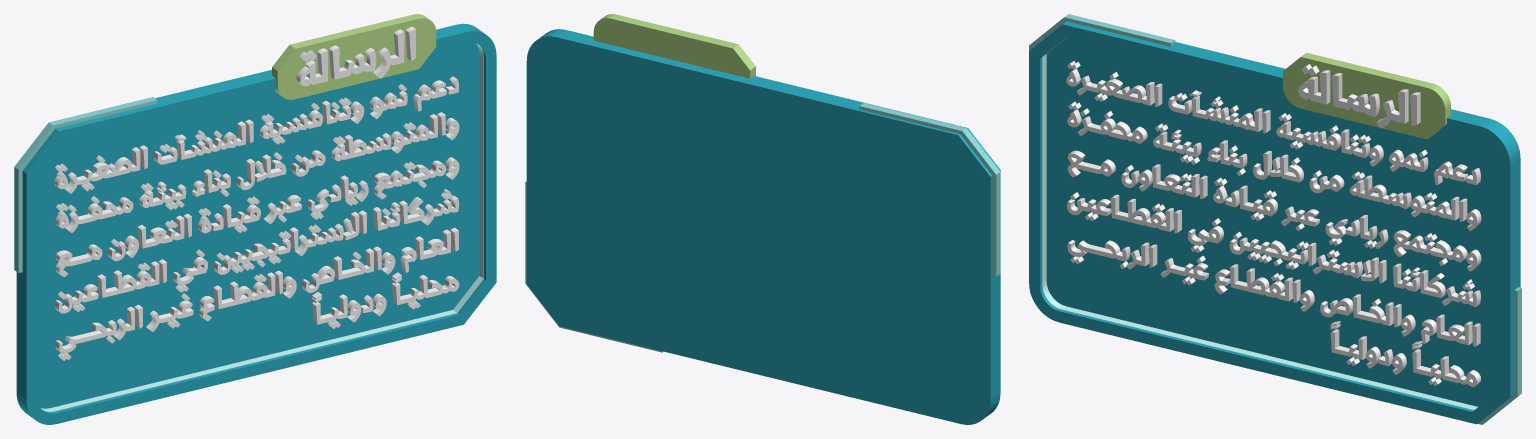
Rendered from second model.glb.
The picture shows the model from 3 angles, left to right: view 1: azimuth 30°, elevation 25°; view 2: azimuth 150°, elevation 25°; view 3: azimuth 330°, elevation 25°; orthographic projection. The views are drawn at different scales.
Visible parts, largest first — view 1: Shape014, SShape002, Shape010, Shape009, Shape017, Shape016, Shape015; view 2: Shape014, Shape010, Shape009, Shape015; view 3: Shape014, SShape002, Shape010, Shape009, Shape017, Shape016, Shape015.
Part boxes in pixels (x1,y1,x2,y2): Shape014: (37, 42, 479, 408); SShape002: (54, 76, 459, 360); Shape010: (16, 23, 496, 424); Shape009: (272, 14, 436, 99); Shape017: (41, 43, 483, 411); Shape016: (296, 26, 415, 86); Shape015: (14, 97, 157, 272); Shape014: (537, 47, 980, 413); Shape010: (526, 29, 1000, 424); Shape009: (593, 14, 755, 78); Shape015: (525, 103, 1000, 352); Shape014: (1046, 37, 1499, 406); SShape002: (1066, 61, 1481, 387); Shape010: (1029, 21, 1520, 424); Shape009: (1283, 52, 1450, 139); Shape017: (1042, 37, 1477, 410); Shape016: (1298, 64, 1420, 128); Shape015: (1029, 14, 1521, 424).
Bounding box in the file's own units: 192 × 124 × 10.69.
